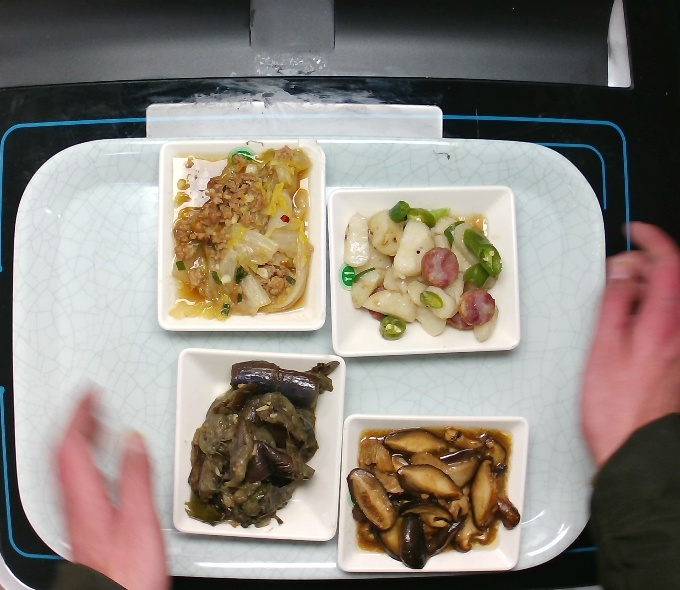wcq-MaTiGuo: (340, 197, 516, 349)
wcq-MoGu: (345, 425, 523, 571)
wcq-QieZi: (177, 351, 345, 538)
wcq-RouMoBaiCai: (165, 144, 326, 329)
